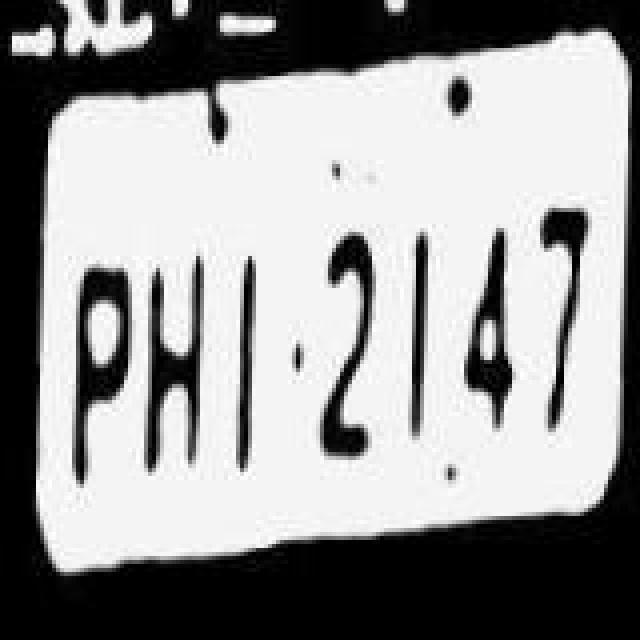1: (208, 250, 268, 478), (386, 240, 434, 472)
2: (300, 226, 384, 486)
4: (444, 210, 516, 462)
7: (516, 210, 596, 458)
H: (134, 240, 214, 488)
P: (54, 250, 134, 498)
